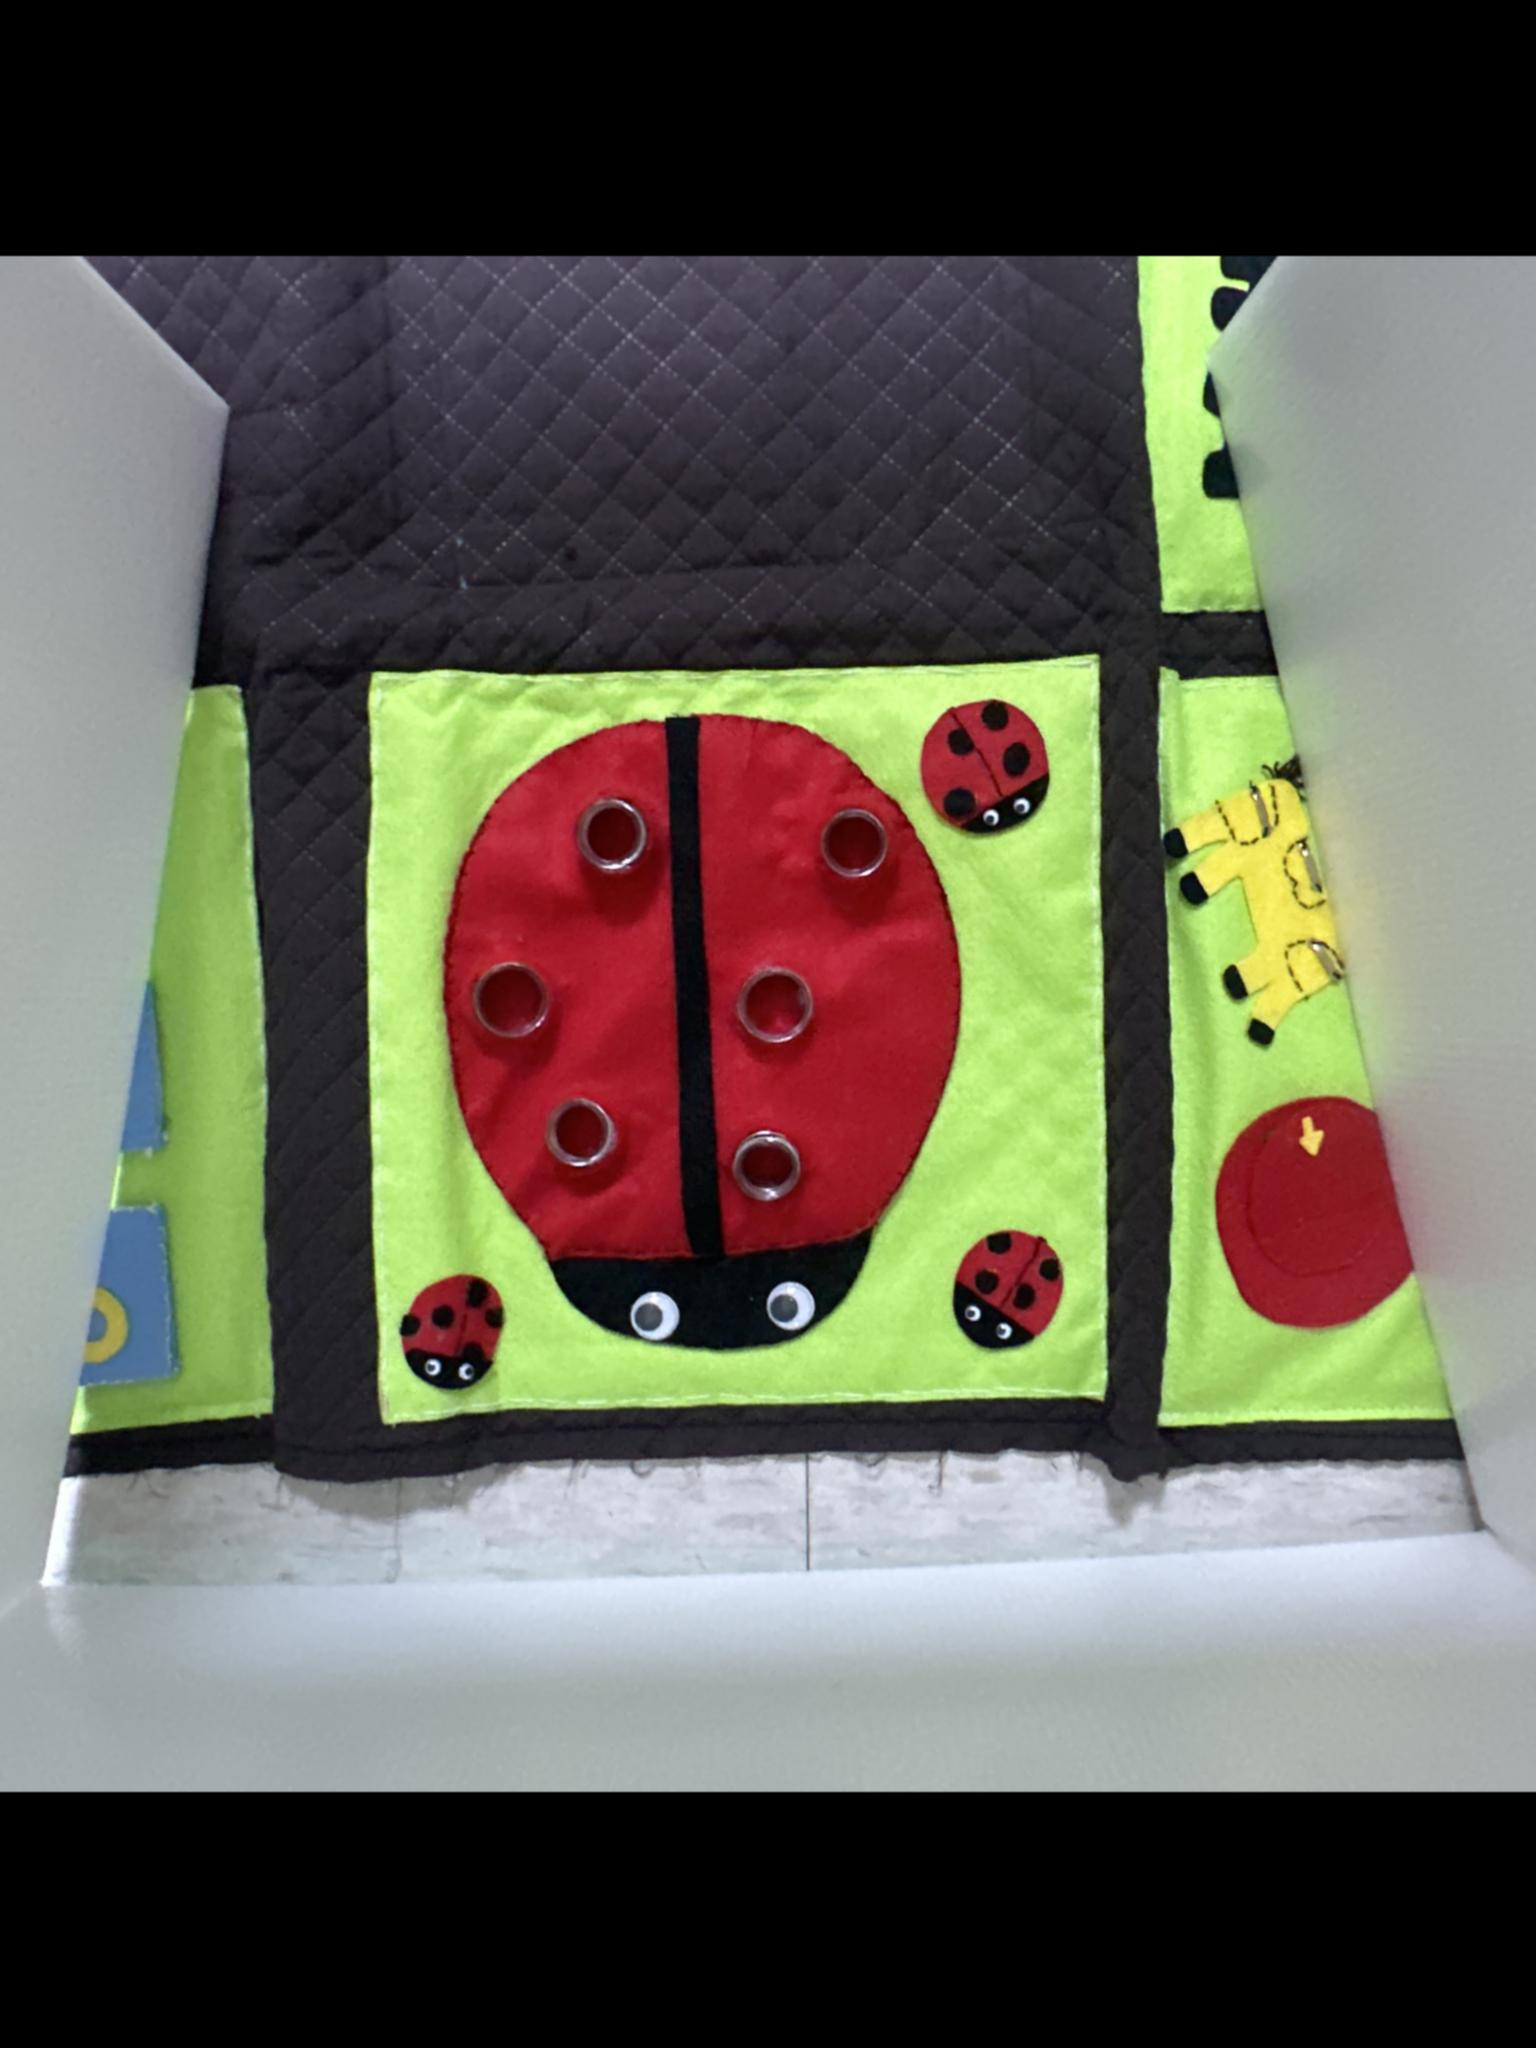hole: (721, 1124, 810, 1214), (563, 800, 655, 880), (476, 963, 550, 1051), (537, 1095, 615, 1174), (731, 972, 805, 1051), (821, 805, 886, 880)
ladybug_case: (436, 708, 968, 1351)
